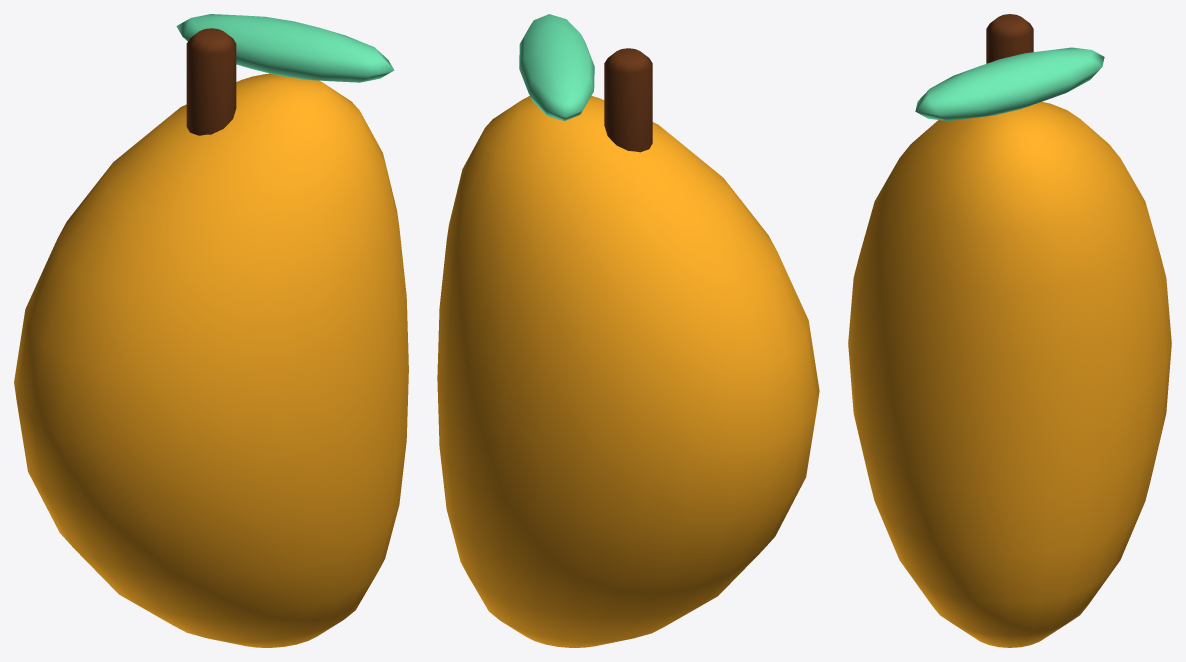
Rendered from mango.fbx.
3 renders of one model, left to right at view 1: azimuth 30°, elevation 25°; view 2: azimuth 150°, elevation 25°; view 3: azimuth 270°, elevation 25°, orthographic. The views are drawn at different scales.
Visible parts, largest first — view 1: mango; view 2: mango; view 3: mango.
Part boxes in pixels (left/top/right/bottom): mango: left=14, top=14, right=408, bottom=647; mango: left=437, top=14, right=819, bottom=647; mango: left=848, top=14, right=1171, bottom=647.
Bounding box in the file's own units: 60.42 × 100 × 50.
Materials: 1 (1 with a texture image).
